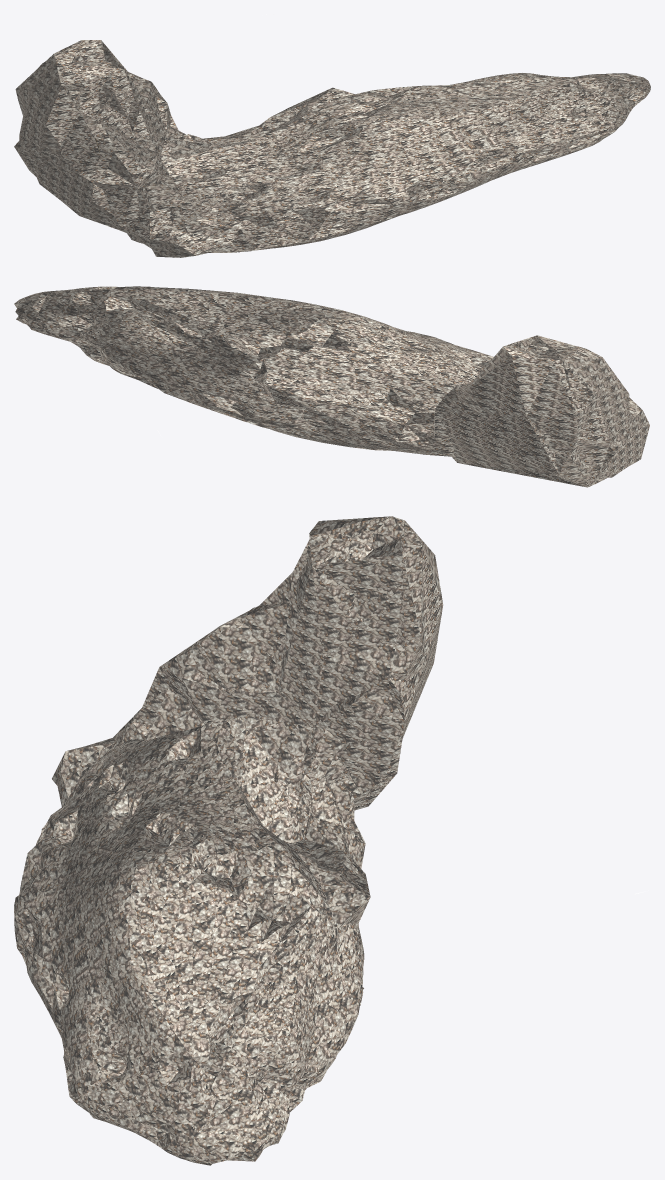
Rendered from Terminado.glb.
3 views of the same model, one above another, from view 1: azimuth 30°, elevation 25°; view 2: azimuth 150°, elevation 25°; view 3: azimuth 270°, elevation 25° (orthographic). The views are drawn at different scales.
Visible parts, largest first — view 1: Group1; view 2: Group1; view 3: Group1.
Part boxes in pixels (bbox=[...]): Group1: bbox=[14, 14, 650, 257]; Group1: bbox=[14, 286, 649, 487]; Group1: bbox=[14, 516, 648, 1165].
Bounding box in the file's own units: 2.25 × 0.6155 × 1.25.
Materials: 20 (19 with a texture image).
